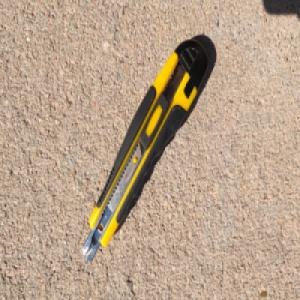Cutter: (81, 37, 209, 265)
